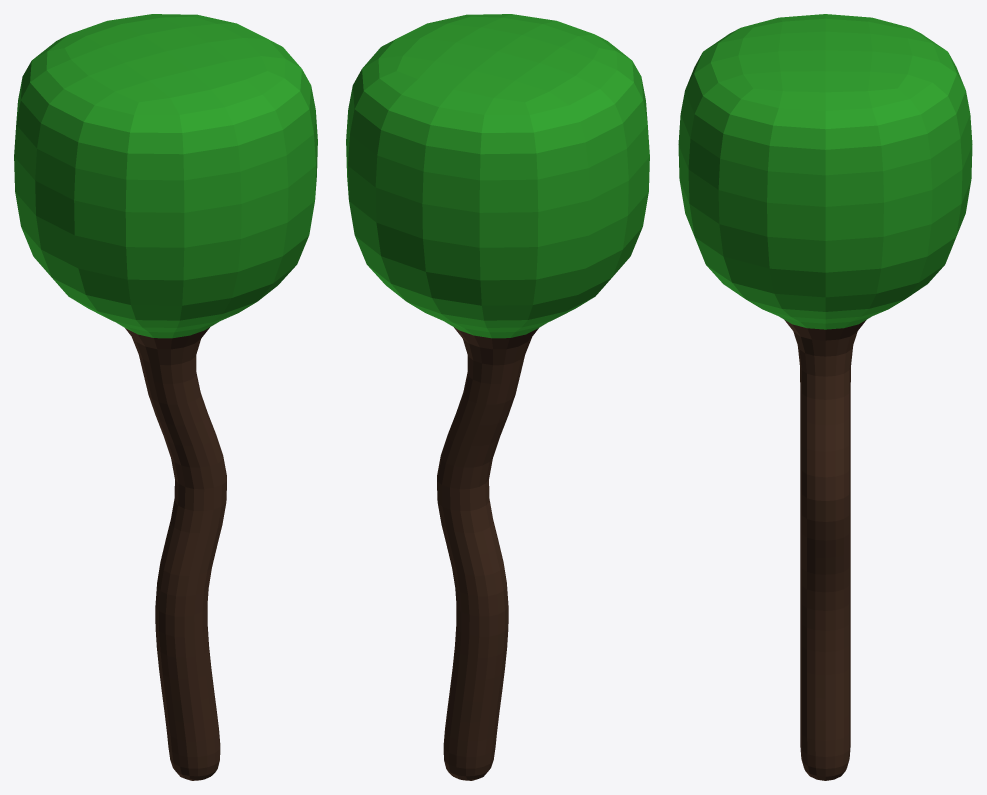
The model's file is tree_1.glb.
3 views of the same model, side by side, from view 1: azimuth 30°, elevation 25°; view 2: azimuth 150°, elevation 25°; view 3: azimuth 270°, elevation 25° (orthographic). The views are drawn at different scales.
Parts seen in each view (by area): view 1: Cube; view 2: Cube; view 3: Cube.
Boxes of the visible parts, x1,y1,x2,y2 form: Cube: (14, 14, 317, 780); Cube: (346, 14, 649, 780); Cube: (678, 14, 972, 780).
Bounding box in the file's own units: 10.68 × 28.62 × 10.68.
